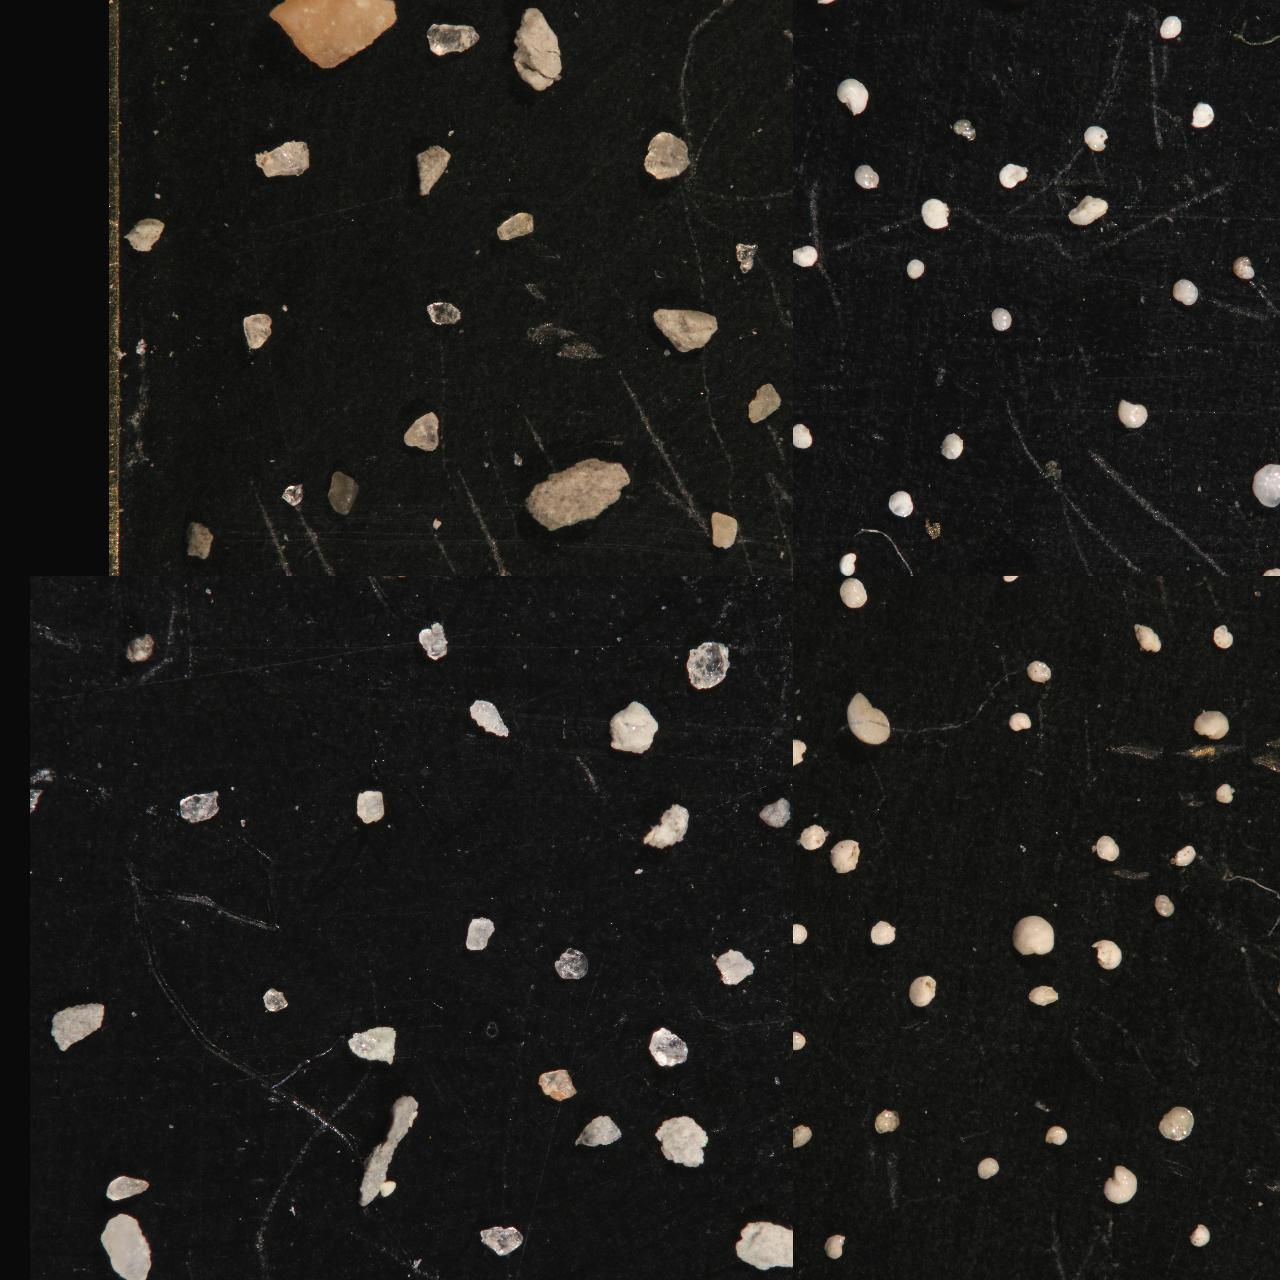Sediment: (267, 0, 399, 73), (524, 456, 632, 535), (359, 1096, 418, 1207), (512, 5, 564, 91), (101, 1212, 154, 1280), (651, 307, 720, 355), (67, 576, 145, 617), (736, 1219, 794, 1269), (610, 697, 659, 756), (654, 1114, 708, 1166), (52, 1001, 105, 1054), (384, 0, 455, 38), (253, 138, 313, 181), (686, 640, 730, 690), (641, 803, 692, 847), (646, 131, 690, 181), (348, 1024, 399, 1065), (424, 22, 482, 57), (415, 144, 450, 199), (573, 1114, 625, 1149), (469, 699, 511, 740), (648, 1026, 689, 1068), (747, 381, 785, 425), (486, 0, 545, 29), (402, 411, 440, 455), (122, 217, 166, 253), (326, 470, 360, 517), (179, 788, 222, 824), (203, 0, 265, 25), (715, 949, 755, 987), (481, 1225, 525, 1258), (538, 1067, 579, 1102), (184, 517, 217, 560), (483, 576, 536, 601), (241, 312, 274, 352), (554, 946, 590, 982), (418, 620, 449, 661), (379, 576, 424, 602), (105, 1175, 150, 1201), (573, 0, 624, 23), (497, 212, 537, 241), (709, 511, 738, 551), (123, 633, 157, 666), (760, 796, 794, 829), (30, 765, 53, 813), (465, 915, 495, 951), (355, 790, 384, 824), (735, 241, 761, 277), (427, 300, 462, 326), (613, 576, 649, 600), (410, 576, 455, 594), (215, 576, 259, 594), (709, 0, 744, 23), (266, 0, 304, 19), (563, 0, 601, 18), (279, 482, 305, 506), (264, 987, 288, 1013), (224, 576, 254, 595), (767, 0, 794, 18), (379, 1179, 399, 1199), (329, 576, 354, 591), (688, 0, 717, 12)
calcareous: (973, 0, 1065, 54), (847, 690, 892, 745), (1012, 914, 1056, 958), (1103, 1164, 1139, 1205), (1069, 195, 1110, 229), (837, 77, 870, 116), (794, 420, 816, 476), (1159, 1105, 1194, 1141), (1253, 462, 1280, 508), (1194, 709, 1230, 741), (1118, 397, 1150, 429), (831, 839, 860, 873), (840, 576, 869, 610), (1092, 940, 1123, 971), (921, 197, 951, 229), (999, 162, 1032, 190), (910, 974, 937, 1008), (1036, 576, 1075, 598), (1135, 622, 1162, 654), (1172, 278, 1199, 308), (794, 1109, 815, 1146), (888, 490, 915, 518), (1029, 985, 1061, 1007), (794, 894, 812, 932), (1096, 836, 1122, 863), (799, 825, 826, 851), (871, 919, 897, 946), (857, 163, 881, 191), (940, 431, 964, 461), (876, 1108, 900, 1133), (1192, 102, 1216, 129), (1084, 125, 1108, 152), (915, 0, 948, 19), (1028, 660, 1053, 685), (1160, 14, 1184, 40), (794, 704, 808, 745), (794, 576, 816, 601), (824, 1234, 846, 1260), (953, 117, 976, 141), (794, 246, 818, 268), (979, 1156, 1001, 1180), (794, 781, 808, 819), (794, 1230, 808, 1267), (1046, 1125, 1069, 1148), (838, 551, 859, 576), (1213, 625, 1234, 649), (1191, 1223, 1212, 1247), (808, 0, 842, 15), (1160, 576, 1190, 593), (992, 306, 1012, 332), (794, 423, 813, 449), (794, 959, 808, 995), (794, 277, 809, 309), (794, 625, 809, 658), (794, 533, 808, 568), (1009, 712, 1033, 733), (1176, 844, 1197, 867), (1234, 256, 1254, 280), (978, 576, 1009, 591), (794, 1125, 813, 1149), (886, 576, 917, 590), (794, 738, 808, 769), (794, 81, 806, 114), (1099, 576, 1130, 588), (907, 258, 925, 280), (794, 1121, 805, 1153), (794, 1138, 806, 1167), (794, 576, 806, 602), (794, 91, 805, 120), (1218, 783, 1234, 803), (794, 922, 808, 945), (1155, 0, 1178, 13), (797, 0, 823, 12), (946, 576, 969, 588), (794, 803, 805, 829), (794, 830, 805, 856), (911, 0, 935, 12), (794, 659, 805, 683), (794, 847, 804, 874), (1164, 576, 1187, 587), (1001, 576, 1022, 588), (794, 1030, 806, 1051), (1238, 576, 1260, 587), (794, 543, 804, 567), (794, 1176, 804, 1199), (794, 333, 803, 358), (794, 1185, 803, 1210), (794, 576, 805, 594), (794, 358, 802, 383), (968, 576, 985, 588), (794, 53, 804, 73), (794, 365, 803, 387), (794, 0, 806, 13), (862, 576, 879, 585), (794, 147, 799, 172), (794, 312, 801, 331), (794, 576, 803, 588)
